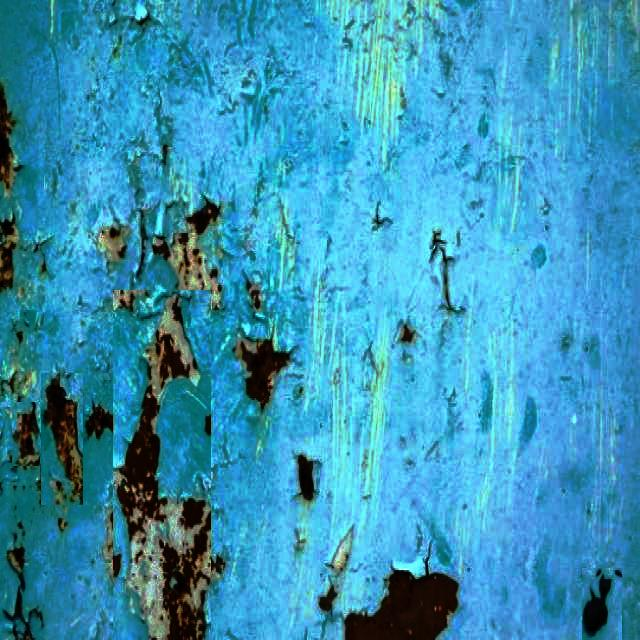Corrosion: (114, 295, 222, 640), (152, 200, 223, 310), (346, 573, 458, 640), (44, 376, 82, 502), (234, 339, 290, 408), (0, 83, 17, 290), (0, 84, 17, 290), (431, 230, 465, 313), (13, 404, 39, 468), (97, 225, 128, 264), (330, 530, 352, 574), (585, 596, 609, 634), (112, 290, 144, 312), (300, 456, 315, 502), (6, 548, 24, 576), (319, 587, 338, 612), (401, 324, 416, 342)
